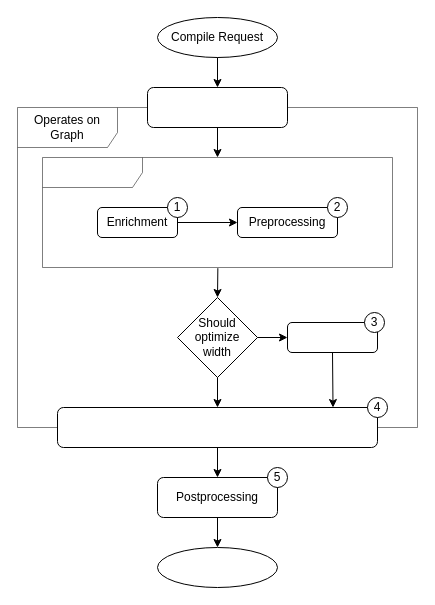
The diagram is 435 pixels wide and 605 high, and some of its shapes have lost their labels. Each missing label, with the box of its shape:
Final Program: (156, 546, 278, 588)
For each node: (42, 156, 392, 268)
Merging: (56, 406, 378, 448)
Model transformation: (146, 86, 288, 128)
Optimization: (286, 322, 378, 352)
